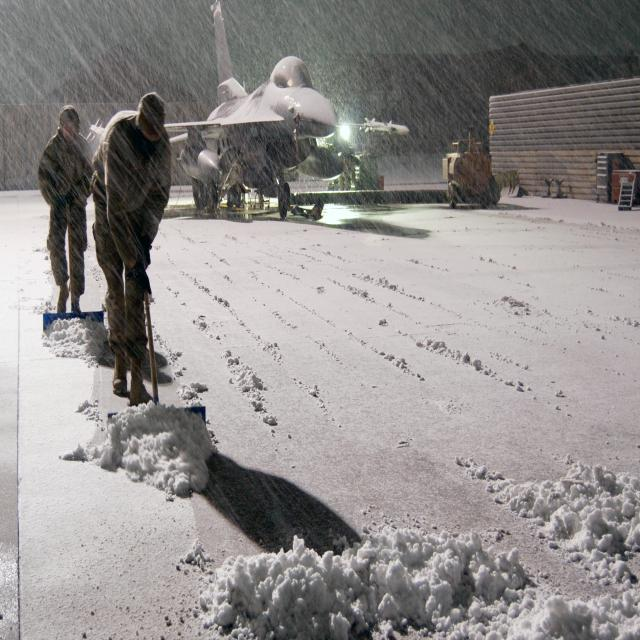MIL_Plane: (86, 0, 410, 220)
